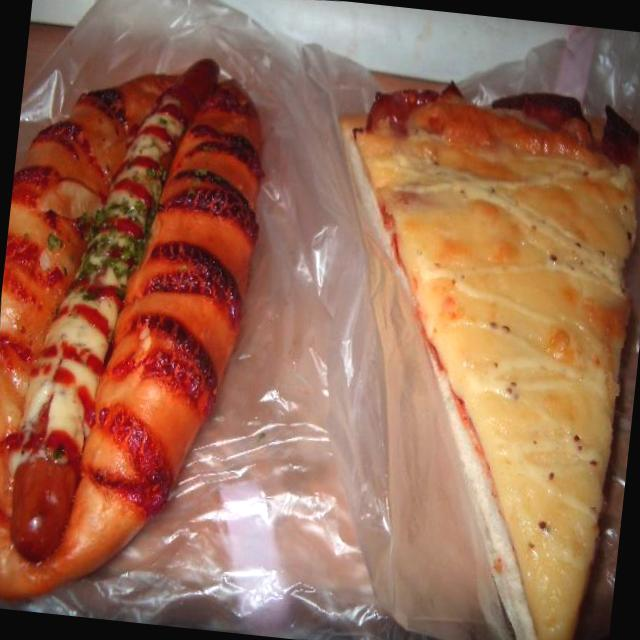Pizza: (293, 43, 640, 640)
